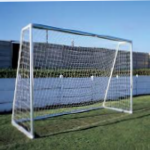goals: (10, 22, 134, 139)
